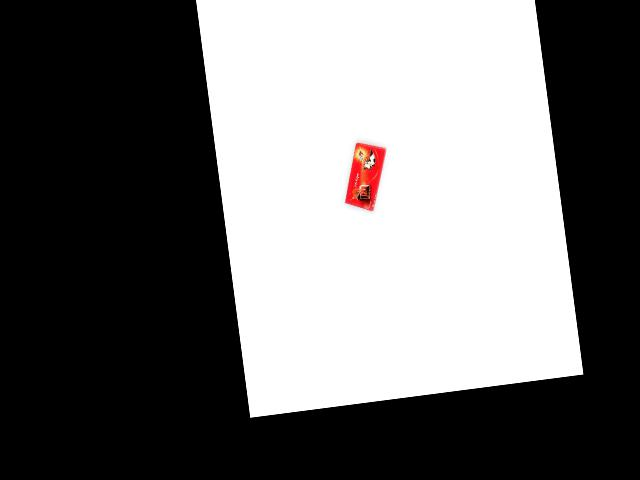chocolate: (336, 140, 394, 215)
